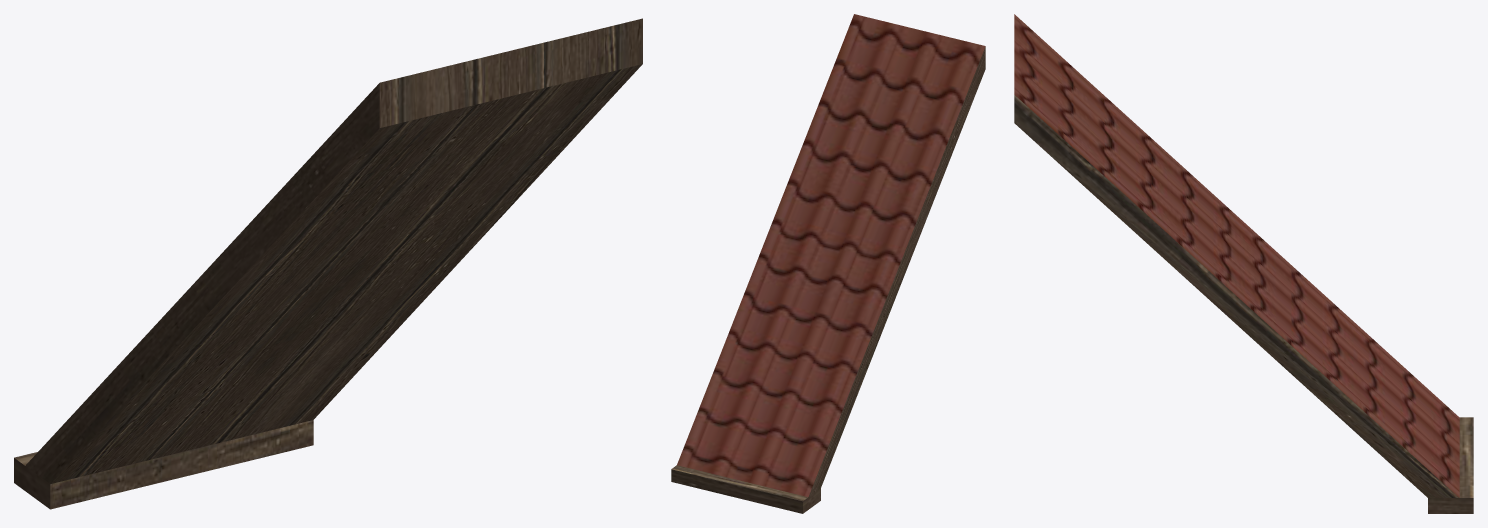
The model's file is ARC1010386.fbx.
The picture shows the model from 3 angles, left to right: view 1: azimuth 30°, elevation 25°; view 2: azimuth 150°, elevation 25°; view 3: azimuth 270°, elevation 25°; orthographic projection. The views are drawn at different scales.
Parts seen in each view (by area): view 1: smARC1010386; view 2: smARC1010386; view 3: smARC1010386.
Part boxes in pixels (box(x1,y1,x2,y2)): smARC1010386: box(14, 18, 642, 509); smARC1010386: box(671, 14, 985, 513); smARC1010386: box(1014, 14, 1473, 513).
Bounding box in the file's own units: 134 × 325 × 323.
1 material, 1 textured.
